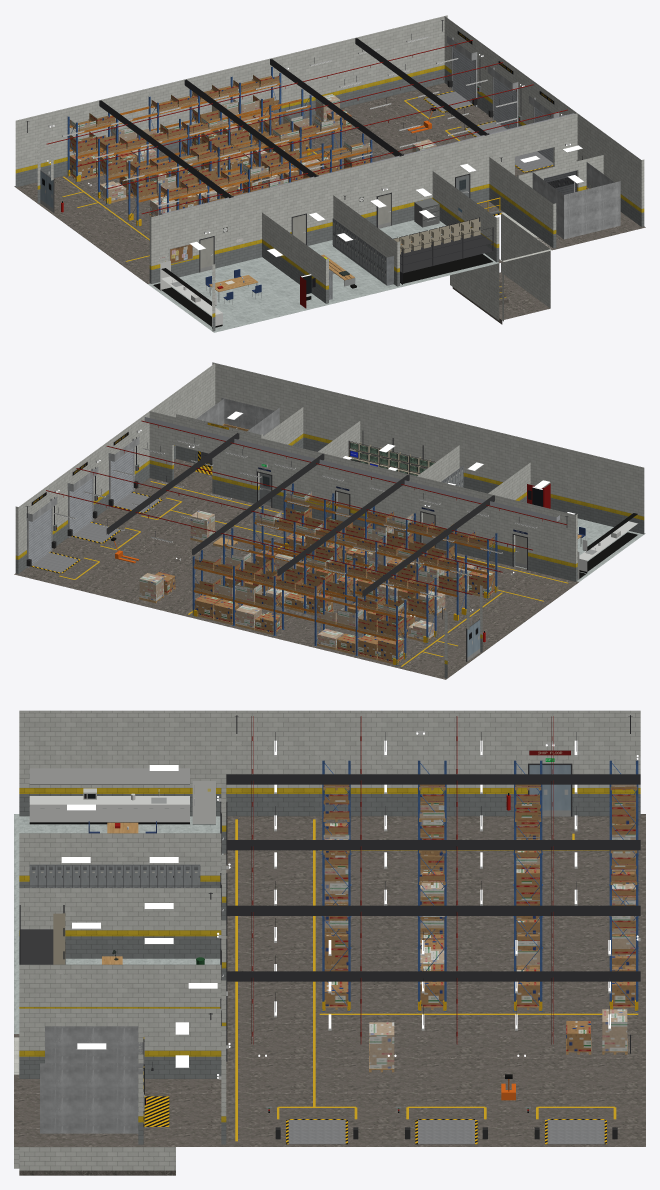
File: back_of_house.glb
3 views of the same model, one above another, from view 1: azimuth 30°, elevation 25°; view 2: azimuth 150°, elevation 25°; view 3: azimuth 270°, elevation 25° (orthographic). The views are drawn at different scales.
Visible parts, largest first — view 1: Wall_Block, Paint_Palette, Floor_Concrete.001, Carton_Load, Wall_Lower, Floor_Vinyl.001, Steel_Galv, Wrap_Load, Steel_Blue, Steel_Orange, Pallet_Wood, Wall_Band (+8 smaller); view 2: Wall_Block, Floor_Concrete.001, Carton_Load, Paint_Palette, Wrap_Load, Wall_Lower, Steel_Blue, Pallet_Wood, Steel_Orange, Steel_Galv, Shutter, Wall_Band (+5 smaller); view 3: Floor_Concrete.001, Wall_Block, Paint_Palette, Carton_Load, Wall_Lower, Steel_Galv, Wrap_Load, Steel_Blue, Wall_Band, Floor_Plate, Floor_Vinyl.001, Locker_Front (+5 smaller).
Boxes of the visible parts, box(x1,y1,x2,y2) form: Wall_Block: box(15, 15, 644, 321); Paint_Palette: box(26, 20, 582, 328); Floor_Concrete.001: box(14, 83, 645, 324); Carton_Load: box(69, 75, 369, 209); Wall_Lower: box(15, 69, 644, 331); Floor_Vinyl.001: box(148, 220, 499, 332); Steel_Galv: box(69, 35, 620, 263); Wrap_Load: box(69, 94, 436, 216); Steel_Blue: box(67, 67, 372, 226); Steel_Orange: box(69, 77, 371, 202); Pallet_Wood: box(69, 75, 370, 216); Wall_Band: box(15, 65, 644, 317); Wall_Block: box(15, 362, 644, 660); Floor_Concrete.001: box(14, 459, 578, 679); Carton_Load: box(155, 507, 494, 661); Paint_Palette: box(26, 414, 637, 664); Wrap_Load: box(139, 491, 475, 647); Wall_Lower: box(15, 437, 644, 678); Steel_Blue: box(192, 483, 497, 665); Pallet_Wood: box(139, 492, 495, 663); Steel_Orange: box(193, 494, 495, 641); Steel_Galv: box(26, 398, 495, 638); Shutter: box(29, 448, 133, 566); Wall_Band: box(15, 433, 644, 664); Floor_Concrete.001: box(14, 814, 645, 1175); Wall_Block: box(14, 710, 640, 1170); Paint_Palette: box(19, 715, 640, 1112); Carton_Load: box(323, 784, 636, 1051); Wall_Lower: box(19, 794, 640, 1144); Steel_Galv: box(40, 806, 635, 1133); Wrap_Load: box(323, 784, 636, 1068); Steel_Blue: box(321, 760, 638, 1011); Wall_Band: box(19, 788, 640, 1122); Floor_Plate: box(288, 1120, 604, 1144); Floor_Vinyl.001: box(14, 814, 223, 1033); Locker_Front: box(29, 865, 200, 887).
Size of the model in its own units: 30.4 by 8.8 by 24.4.
Materials: 31 (25 with a texture image).
